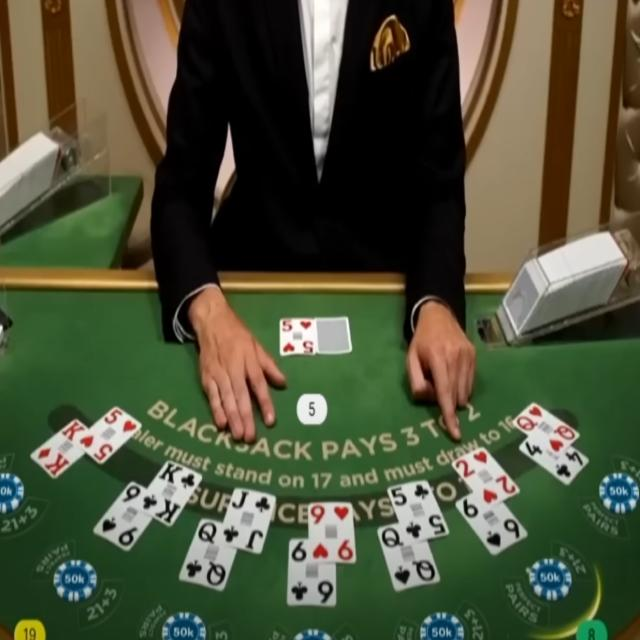Card-2: (451, 446, 520, 508)
Card-4: (519, 436, 589, 486)
Card-5: (75, 404, 142, 465), (388, 479, 450, 544), (280, 318, 316, 355)
Card-6: (456, 492, 529, 556), (288, 538, 336, 607)
Card-9: (93, 480, 152, 552), (309, 501, 356, 563)
Card-J: (220, 486, 276, 555)
Card-K: (136, 458, 202, 527), (30, 417, 88, 480)
Card-Q: (377, 522, 440, 592), (179, 518, 237, 592), (512, 401, 580, 456)
